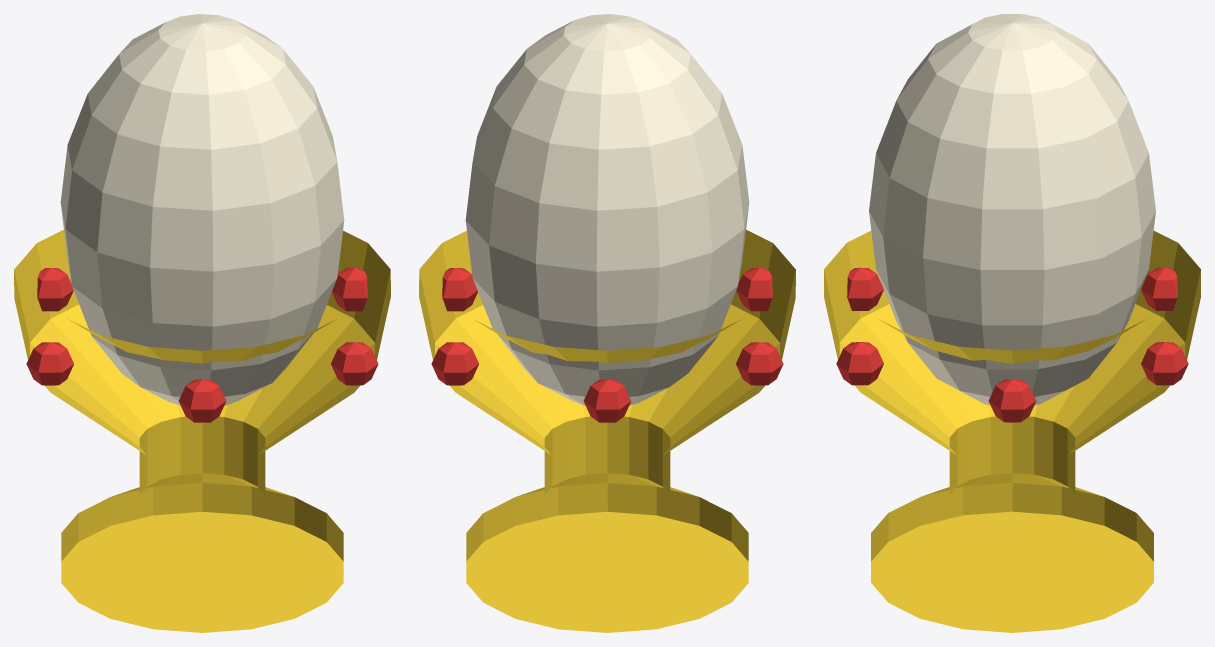
File: aggkopp.glb
The picture shows the model from 3 angles, left to right: view 1: azimuth 30°, elevation 25°; view 2: azimuth 150°, elevation 25°; view 3: azimuth 270°, elevation 25°; orthographic projection.
Parts seen in each view (by area): view 1: aggkopp; view 2: aggkopp; view 3: aggkopp.
Part boxes in pixels (x1,y1,x2,y2): aggkopp: (14, 14, 390, 632); aggkopp: (419, 14, 795, 632); aggkopp: (824, 14, 1200, 632).
Size of the model in its own units: 0.2465 by 0.38 by 0.2364.
